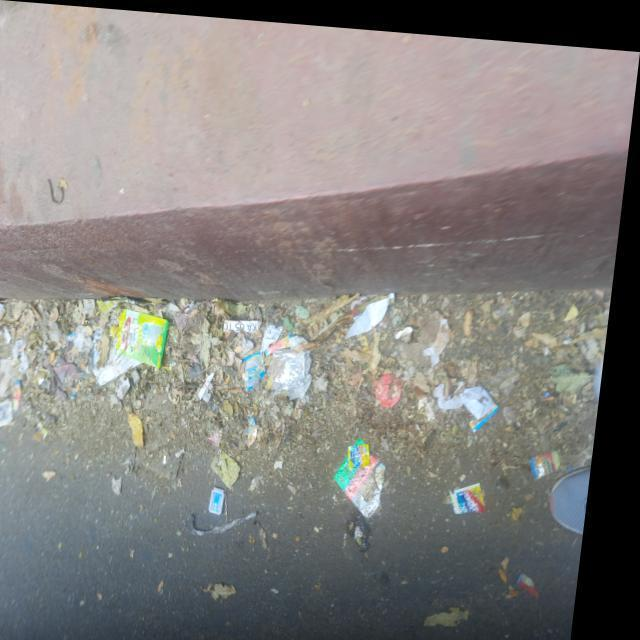Background: (0, 278, 618, 640)
Cig_pack: (0, 398, 24, 429)
Plastic_Bag: (183, 297, 218, 330)
Plastic_wraper: (346, 433, 396, 511), (125, 307, 176, 365), (443, 377, 507, 423), (276, 342, 321, 393), (461, 474, 498, 505), (251, 347, 274, 387), (541, 440, 570, 469), (272, 329, 298, 351), (530, 564, 553, 587), (207, 368, 223, 396), (257, 411, 268, 441), (218, 424, 233, 442), (215, 378, 216, 379)
